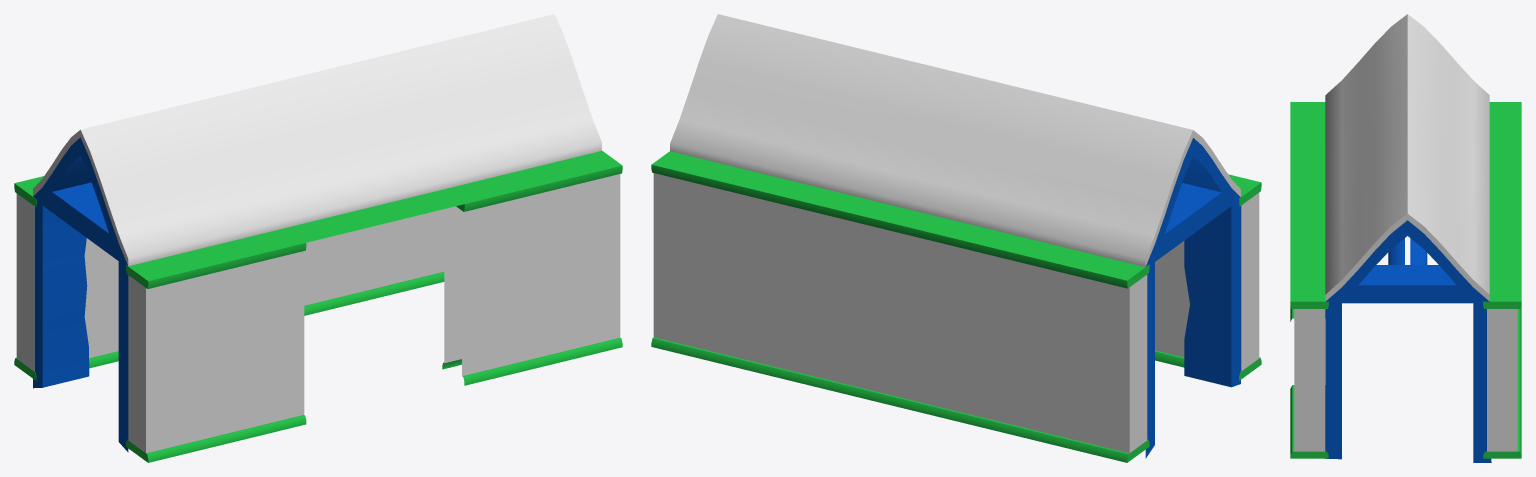
Rendered from Basic Hallway 02B_NF.fbx.
The picture shows the model from 3 angles, left to right: view 1: azimuth 30°, elevation 25°; view 2: azimuth 150°, elevation 25°; view 3: azimuth 270°, elevation 25°; orthographic projection. The views are drawn at different scales.
Parts seen in each view (by area): view 1: Plane_001; view 2: Plane_001; view 3: Plane_001.
Part boxes in pixels (<box>): Plane_001: <box>14,14,622,462</box>; Plane_001: <box>651,14,1261,462</box>; Plane_001: <box>1290,14,1521,462</box>.
Size of the model in its own units: 1258 by 744 by 615.
